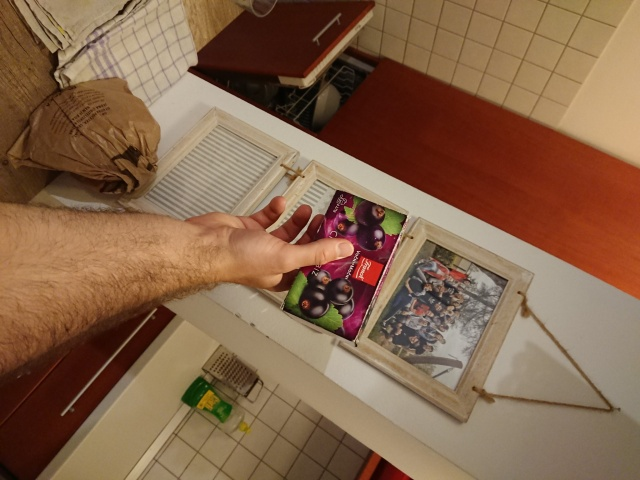Franck Black Currant Tea 60g: (277, 188, 410, 348)
